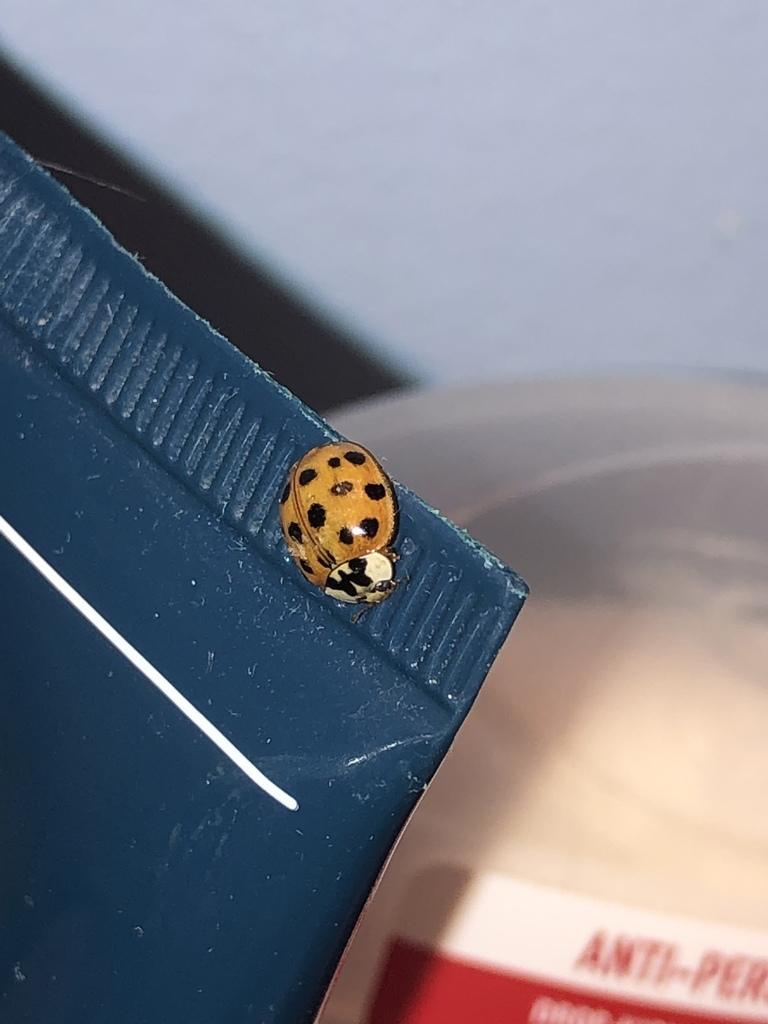ladybug: (281, 441, 406, 629)
